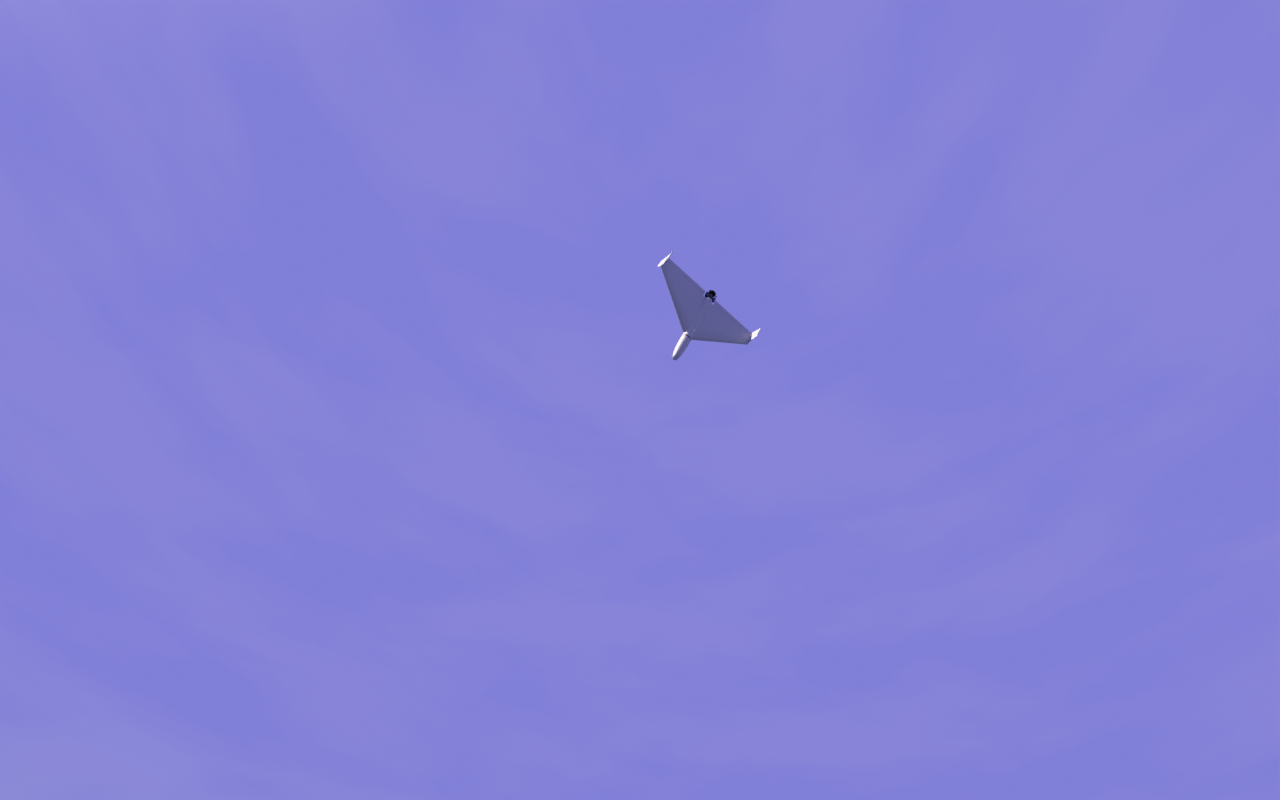shahed: (658, 250, 762, 362)
